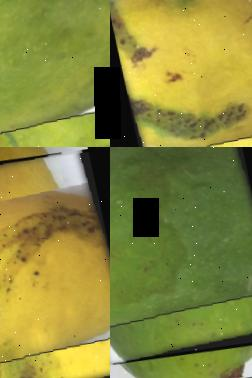PartiallyRipe: (0, 0, 110, 147)
Ripe: (0, 147, 110, 378), (110, 0, 252, 147)
Unripe: (110, 147, 252, 367)
